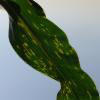Corn leaf blight: (3, 1, 98, 99)
